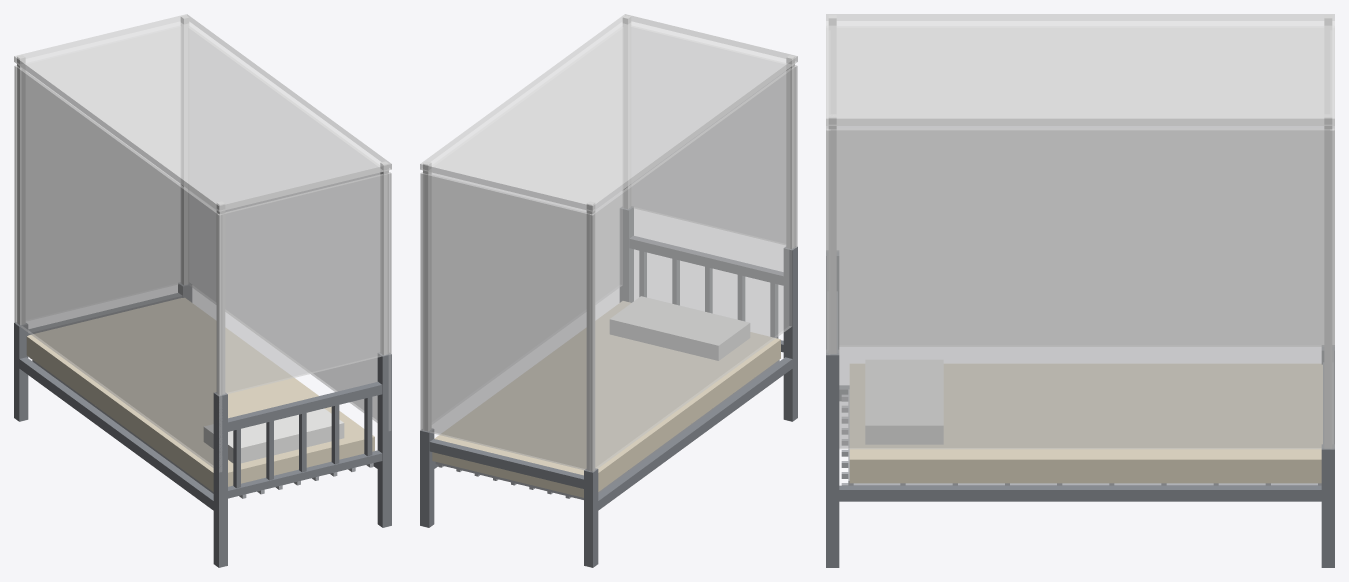
The model's file is mosquito-net-bed.glb.
The picture shows the model from 3 angles, left to right: view 1: azimuth 30°, elevation 25°; view 2: azimuth 150°, elevation 25°; view 3: azimuth 270°, elevation 25°; orthographic projection. The views are drawn at different scales.
Parts seen in each view (by area): view 1: mosquito-net-bed_Cube.040, mosquito-net-bed_Cube.039, mosquito-net-bed_Cube.043, mosquito-net-bed_Cube.041, mosquito-net-bed_Cube.042, mosquito-net-bed_Cube.033, mosquito-net-bed_Cube.012, mosquito-net-bed_Cube.034, mosquito-net-bed_Cube, mosquito-net-bed_Cube.002, mosquito-net-bed_Cube.036, mosquito-net-bed_Cube.004 (+8 smaller); view 2: mosquito-net-bed_Cube.040, mosquito-net-bed_Cube.042, mosquito-net-bed_Cube.039, mosquito-net-bed_Cube.041, mosquito-net-bed_Cube.033, mosquito-net-bed_Cube.043, mosquito-net-bed_Cube.034, mosquito-net-bed_Cube.012, mosquito-net-bed_Cube.036, mosquito-net-bed_Cube.038, mosquito-net-bed_Cube, mosquito-net-bed_Cube.011 (+6 smaller); view 3: mosquito-net-bed_Cube.041, mosquito-net-bed_Cube.040, mosquito-net-bed_Cube.039, mosquito-net-bed_Cube.033, mosquito-net-bed_Cube.013, mosquito-net-bed_Cube.034, mosquito-net-bed_Cube.002, mosquito-net-bed_Cube.038, mosquito-net-bed_Cube.037, mosquito-net-bed_Cube.003, mosquito-net-bed_Cube.022, mosquito-net-bed_Cube.042 (+3 smaller).
Boxes of the visible parts, box(x1,y1,x2,y2) form: mosquito-net-bed_Cube.040: box(15, 65, 222, 471); mosquito-net-bed_Cube.039: box(14, 14, 391, 211); mosquito-net-bed_Cube.043: box(217, 172, 391, 395); mosquito-net-bed_Cube.041: box(188, 172, 391, 430); mosquito-net-bed_Cube.042: box(14, 65, 181, 323); mosquito-net-bed_Cube.033: box(26, 298, 374, 491); mosquito-net-bed_Cube.012: box(19, 357, 213, 510); mosquito-net-bed_Cube.034: box(204, 408, 344, 463); mosquito-net-bed_Cube: box(213, 392, 227, 567); mosquito-net-bed_Cube.002: box(377, 352, 391, 527); mosquito-net-bed_Cube.036: box(17, 55, 25, 325); mosquito-net-bed_Cube.004: box(215, 382, 382, 433); mosquito-net-bed_Cube.040: box(589, 65, 796, 472); mosquito-net-bed_Cube.042: box(420, 172, 594, 472); mosquito-net-bed_Cube.039: box(420, 14, 797, 211); mosquito-net-bed_Cube.041: box(420, 172, 623, 430); mosquito-net-bed_Cube.033: box(432, 301, 780, 497); mosquito-net-bed_Cube.043: box(630, 65, 797, 247); mosquito-net-bed_Cube.034: box(610, 296, 749, 360); mosquito-net-bed_Cube.012: box(598, 357, 792, 510); mosquito-net-bed_Cube.036: box(586, 201, 595, 470); mosquito-net-bed_Cube.038: box(423, 161, 431, 431); mosquito-net-bed_Cube: box(783, 246, 797, 421); mosquito-net-bed_Cube.011: box(429, 439, 597, 490); mosquito-net-bed_Cube.041: box(826, 128, 1334, 449); mosquito-net-bed_Cube.040: box(826, 126, 1334, 346); mosquito-net-bed_Cube.039: box(826, 14, 1334, 125); mosquito-net-bed_Cube.033: box(849, 364, 1322, 483); mosquito-net-bed_Cube.013: box(839, 485, 1321, 501); mosquito-net-bed_Cube.034: box(865, 360, 943, 444); mosquito-net-bed_Cube.002: box(826, 350, 839, 567); mosquito-net-bed_Cube.038: box(1324, 114, 1332, 448); mosquito-net-bed_Cube.037: box(828, 114, 836, 353); mosquito-net-bed_Cube.003: box(1321, 444, 1334, 567); mosquito-net-bed_Cube.022: box(841, 483, 1317, 485); mosquito-net-bed_Cube.042: box(1330, 126, 1333, 449).
Size of the model in its own units: 0.95 by 1.9 by 1.95.
